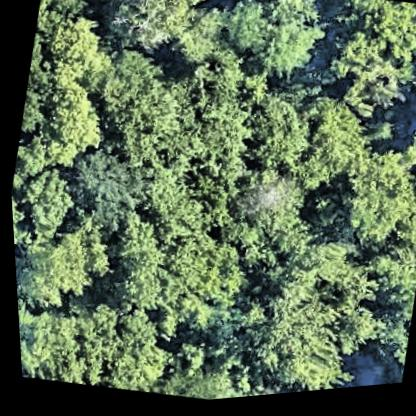tree-top: (14, 286, 178, 407), (213, 264, 350, 402), (102, 207, 246, 332), (82, 41, 205, 174), (309, 140, 416, 265), (315, 0, 416, 126), (216, 0, 336, 97), (51, 139, 161, 239), (10, 215, 114, 319), (229, 84, 319, 192), (285, 96, 369, 205), (7, 141, 82, 255), (22, 80, 109, 178), (143, 163, 232, 252), (100, 0, 203, 69), (31, 8, 106, 90), (347, 242, 416, 311), (229, 177, 290, 234), (160, 332, 213, 391), (369, 306, 411, 377), (331, 308, 379, 366), (169, 367, 234, 405)
